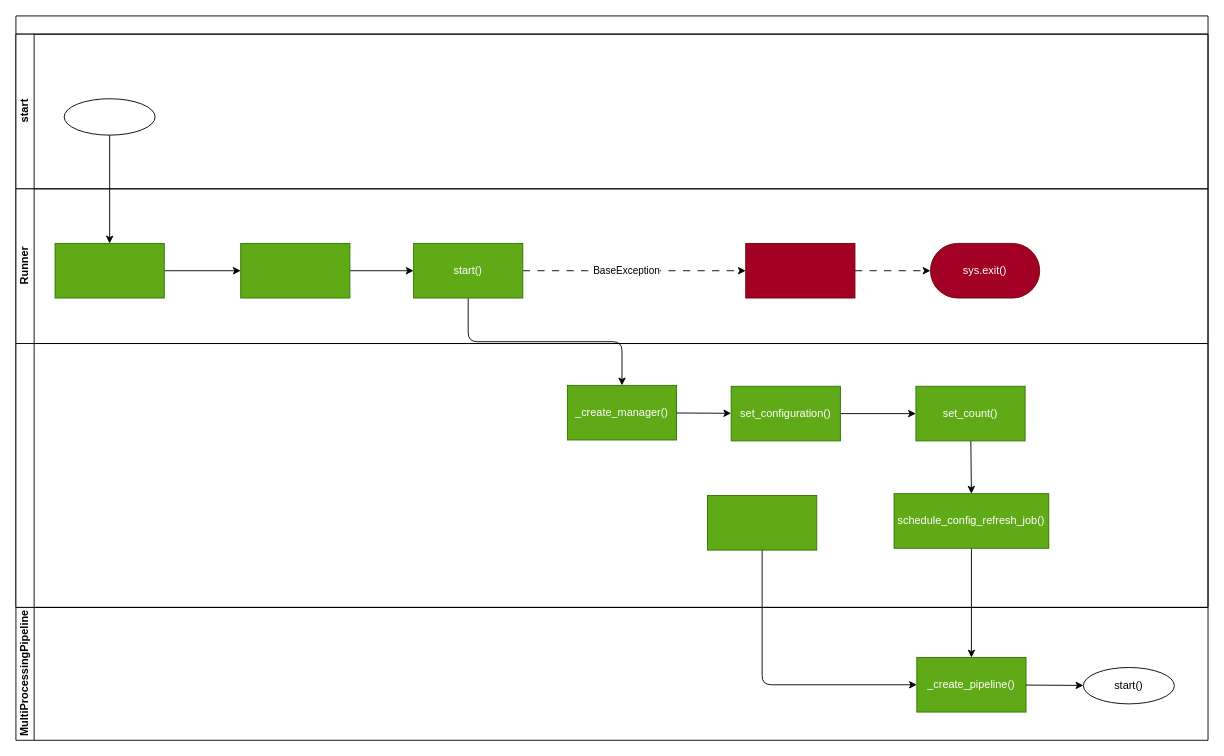
Image size: 1224x756. Some labels were removed from this diagram. The box of each missing label's shape, as (x1, y1, x2, y2) in pixels:
_run_logprep(): (63, 98, 155, 135)
get_runner(): (240, 243, 350, 298)
load_configuartion(): (54, 243, 164, 298)
PipelineManager: (15, 343, 1208, 607)
reload_configuration(): (707, 495, 817, 550)
stop(): (745, 243, 855, 298)
